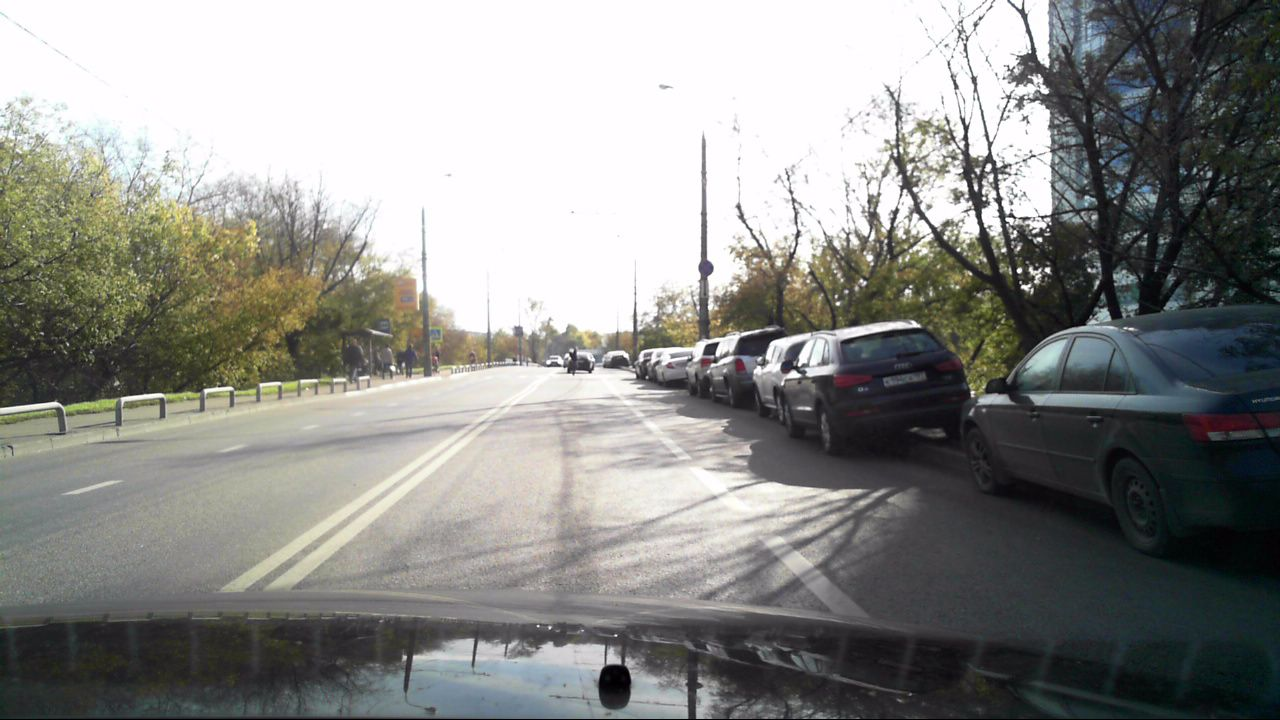No Parking: (696, 258, 713, 275)
